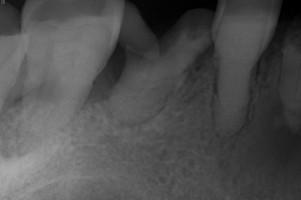Furcation Involvement: (258, 90, 301, 171)
